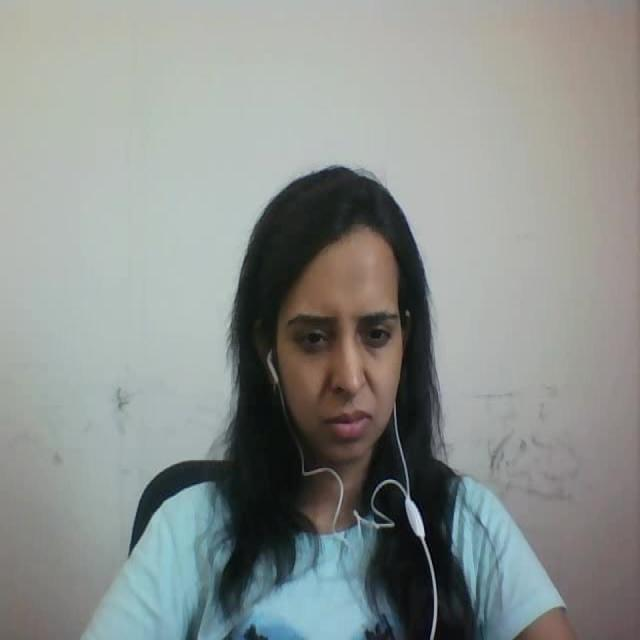Bored: (229, 154, 450, 486)
